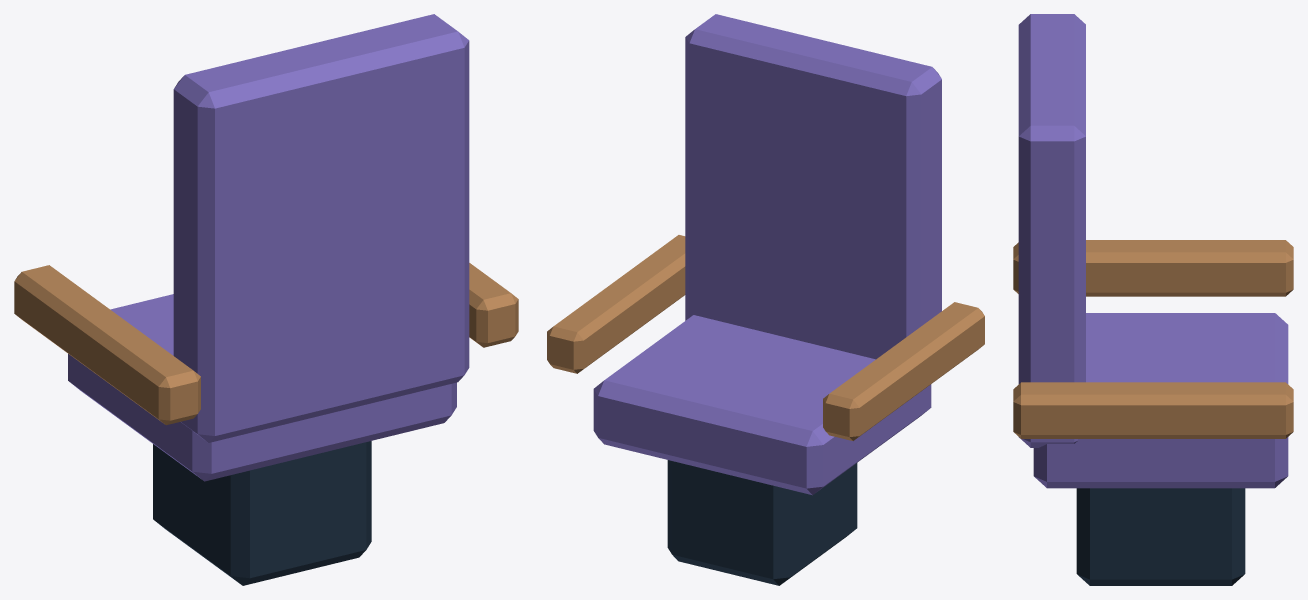
Rendered from SM_AuditoriumSeat.obj.
The picture shows the model from 3 angles, left to right: view 1: azimuth 30°, elevation 25°; view 2: azimuth 150°, elevation 25°; view 3: azimuth 270°, elevation 25°; orthographic projection. The views are drawn at different scales.
Visible parts, largest first — view 1: SM_AuditoriumSeat; view 2: SM_AuditoriumSeat; view 3: SM_AuditoriumSeat.
Boxes of the visible parts, left/top/right/bottom form: SM_AuditoriumSeat: left=14, top=14, right=518, bottom=585; SM_AuditoriumSeat: left=547, top=14, right=984, bottom=585; SM_AuditoriumSeat: left=1013, top=14, right=1293, bottom=585.
Size of the model in its own units: 1.02 by 1.45 by 0.75.
